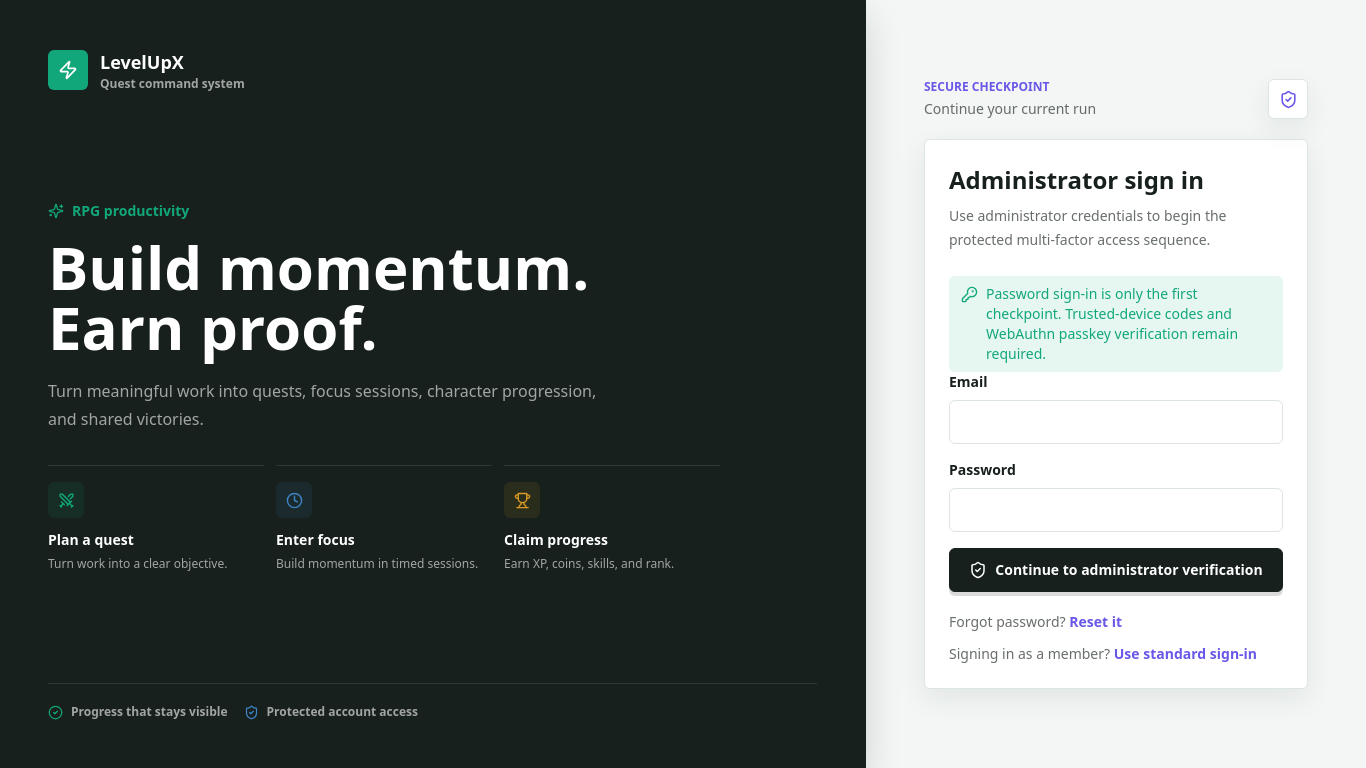
Scenario: LoginExperience administrator entry › does not retain a member session entered through the privileged route
The image size is (1366, 768).
In the field labelled "Email": (1116, 422) [949,400,1283,444], type "member@example.test"
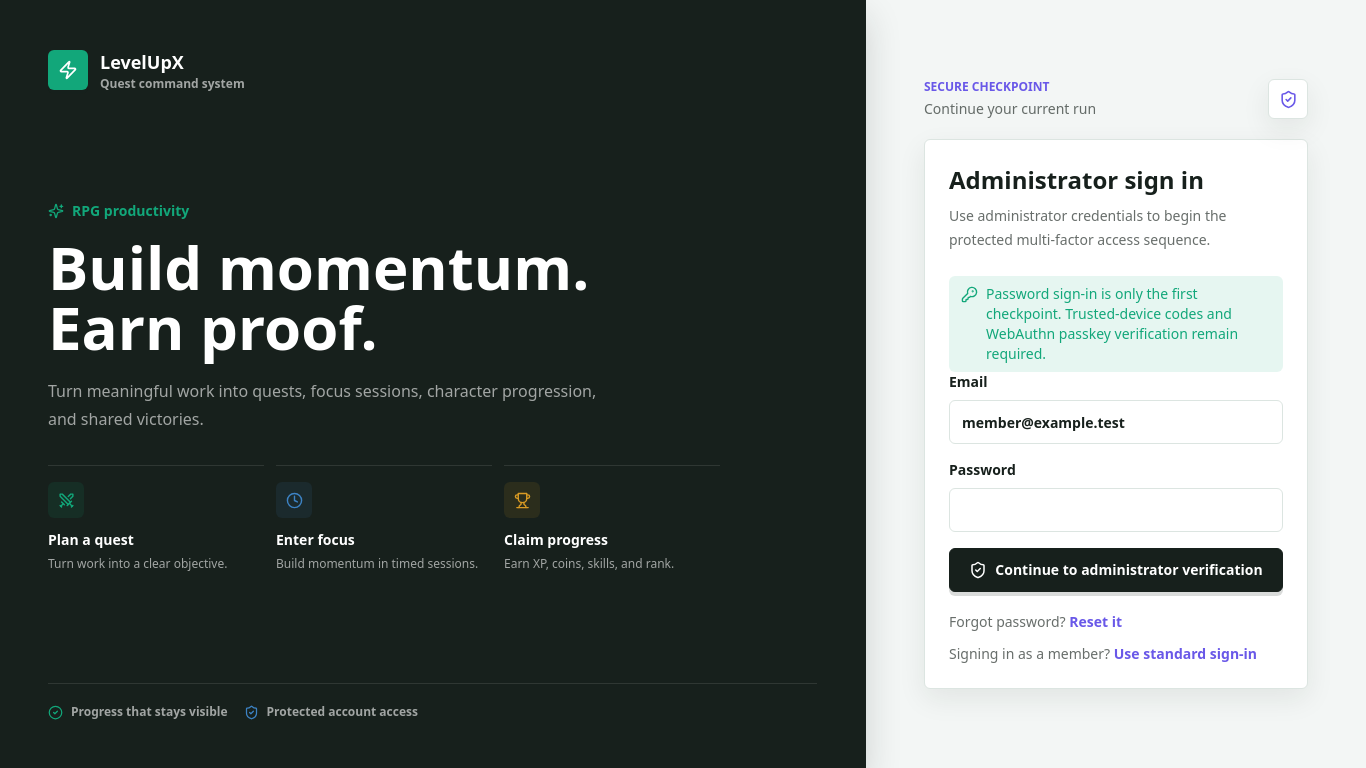
In the password field labelled "Password": (1116, 510) [949,488,1283,532], type "correct-password"
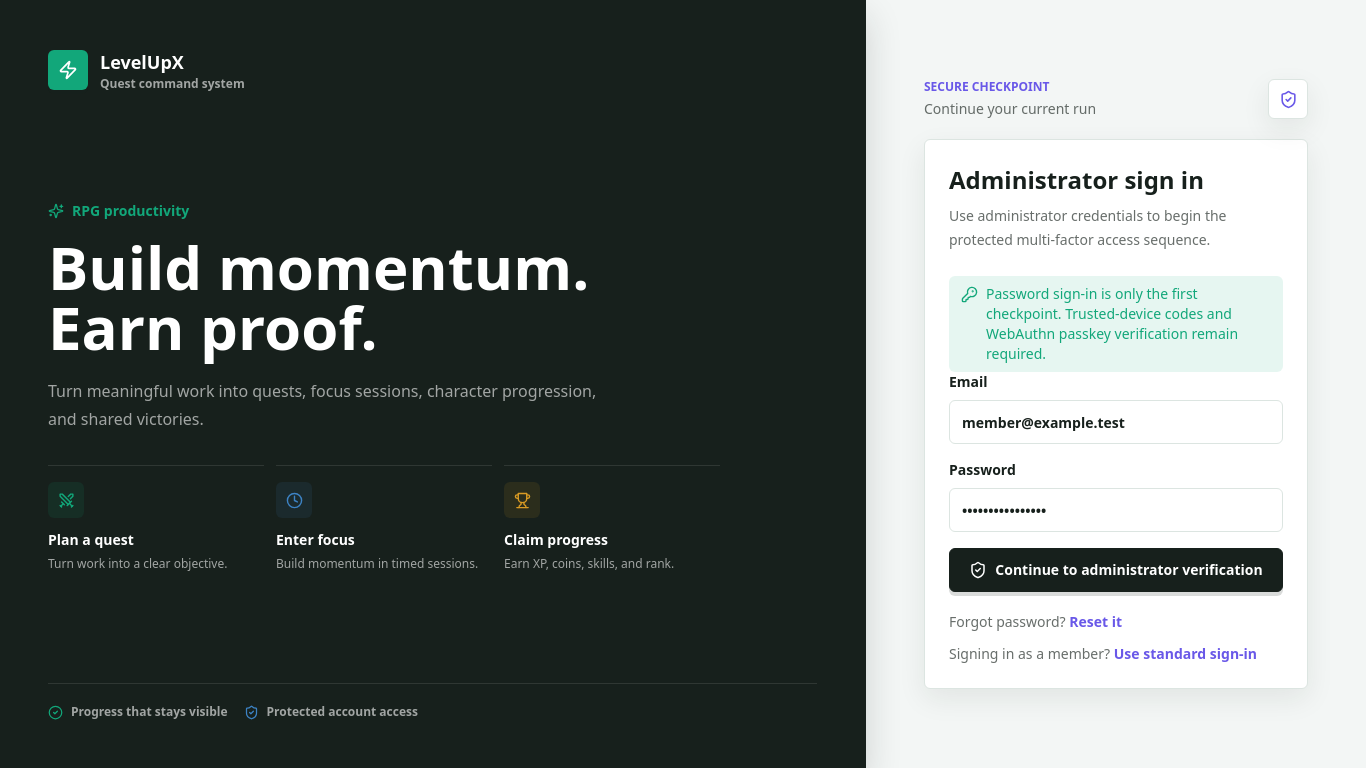
Click the button "Continue to administrator verification": click(1116, 570) [949,548,1283,592]
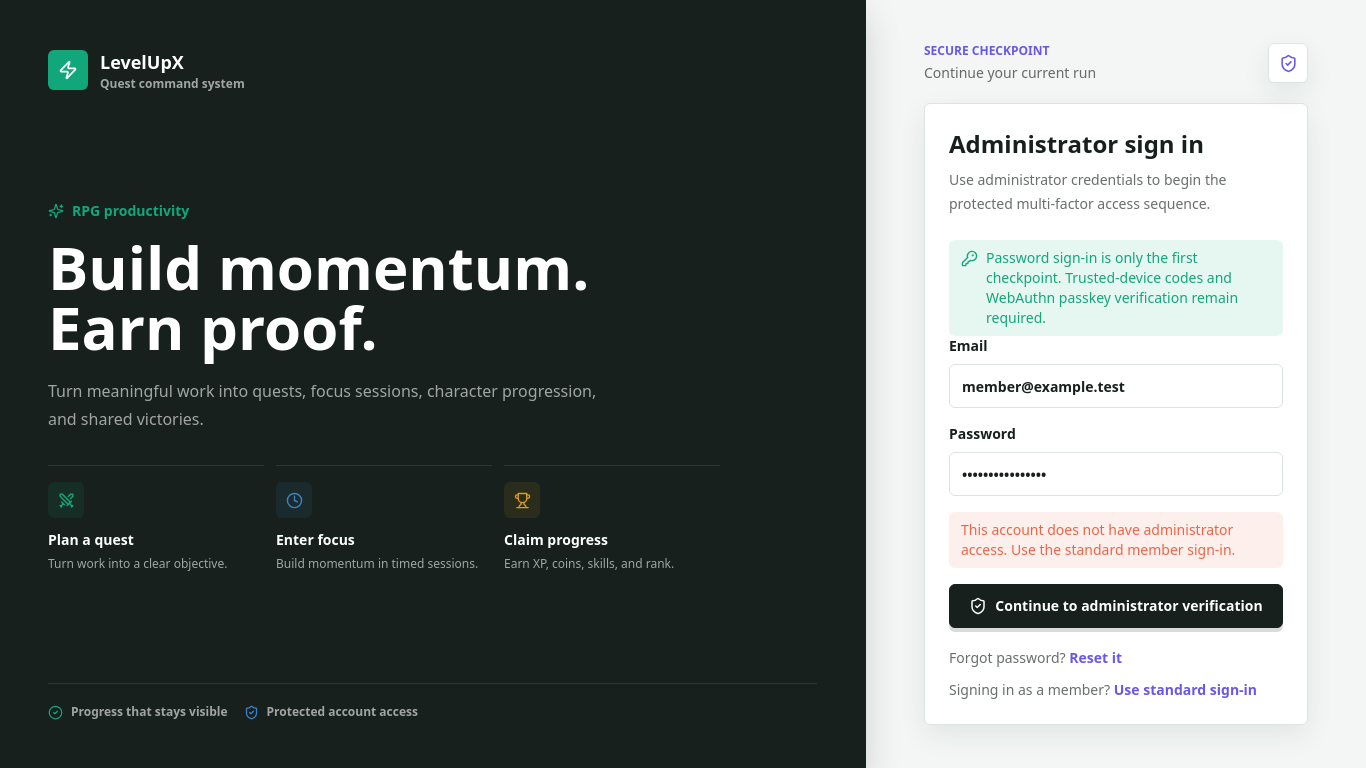
expect the text "does not have administrator access" is shown: met, box [961,520,1235,559]
